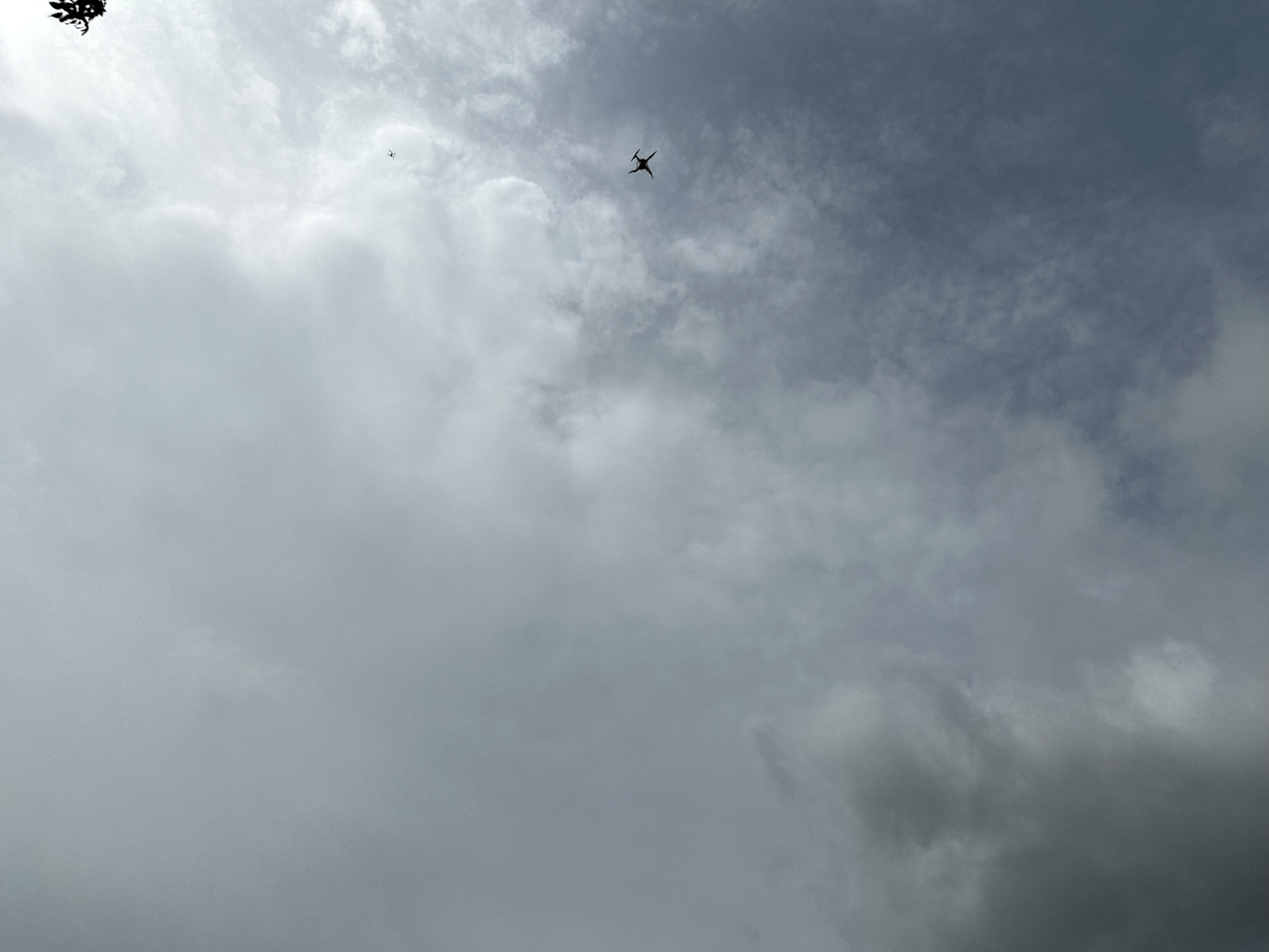drone_other: (627, 147, 658, 179), (387, 149, 396, 160)
